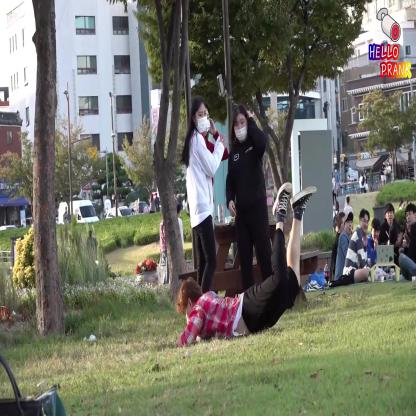Fall_Down: (175, 180, 317, 350)
